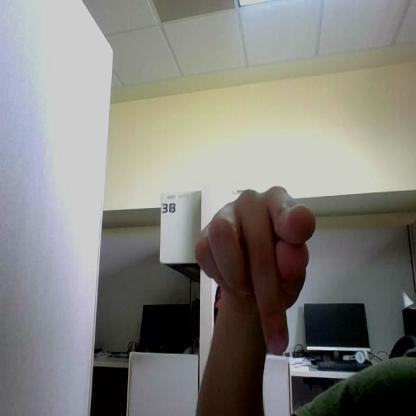P: (195, 187, 315, 354)
